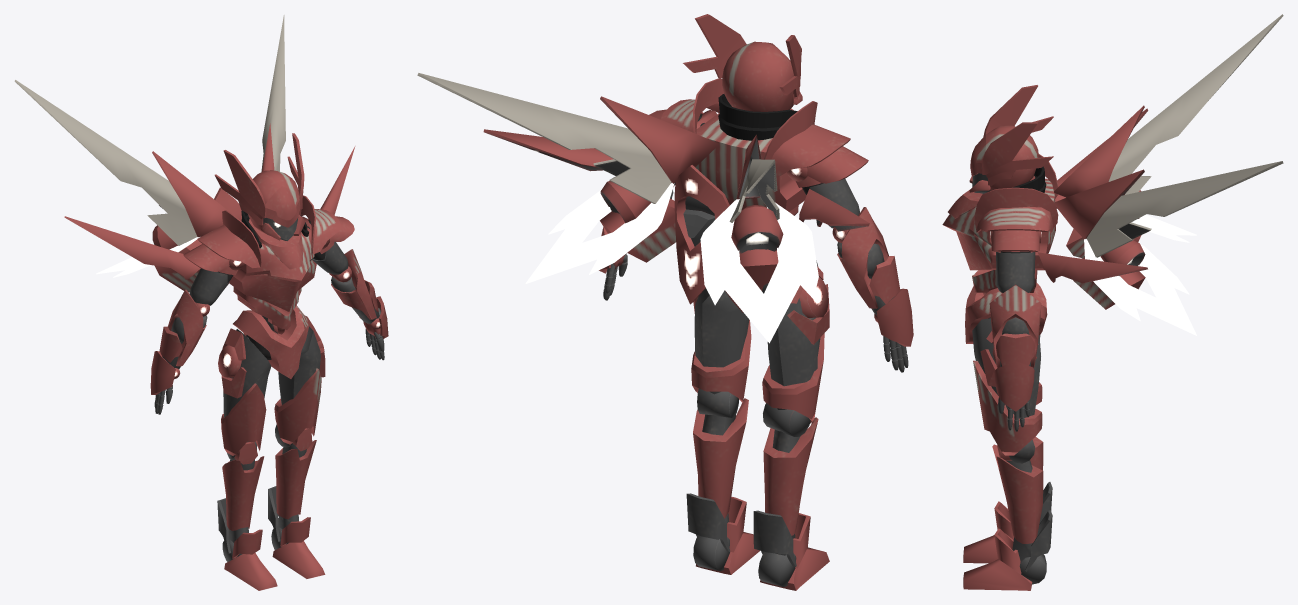
File: Male_10.glb
3 renders of one model, left to right at view 1: azimuth 30°, elevation 25°; view 2: azimuth 150°, elevation 25°; view 3: azimuth 270°, elevation 25°, orthographic. The views are drawn at different scales.
Visible parts, largest first — view 1: M1.1, WM2, H, AM, AMR, AMH1.001, AML, AMH2, NTC, AMM2; view 2: WM2, M1.1, H, AM, AMR, AMH1.001, Object001, AML, AMM2; view 3: WM2, M1.1, H, AML, AM, AMH2, AMM1, NTC.
Boxes of the visible parts, <box> form: M1.1: <box>150,216,388,590</box>; WM2: <box>14,15,355,292</box>; H: <box>214,133,304,240</box>; AM: <box>229,227,316,311</box>; AMR: <box>197,210,261,268</box>; AMH1.001: <box>167,289,206,366</box>; AML: <box>301,195,340,254</box>; AMH2: <box>331,249,376,319</box>; NTC: <box>248,219,302,269</box>; AMM2: <box>183,244,229,271</box>; WM2: <box>417,73,869,343</box>; M1.1: <box>599,110,913,590</box>; H: <box>683,14,802,111</box>; AM: <box>695,113,806,211</box>; AMR: <box>763,101,850,177</box>; AMH1.001: <box>837,207,888,308</box>; Object001: <box>718,94,797,140</box>; AML: <box>660,78,723,133</box>; AMM2: <box>807,146,868,183</box>; WM2: <box>1038,14,1283,335</box>; M1.1: <box>963,231,1052,590</box>; H: <box>969,85,1053,193</box>; AML: <box>975,187,1058,232</box>; AM: <box>942,178,1055,270</box>; AMH2: <box>989,284,1041,367</box>; AMM1: <box>991,230,1039,251</box>; NTC: <box>948,176,1035,218</box>.
Bounding box in the file's own units: 3.77 × 5.34 × 3.41.
3 materials, 3 textured.
